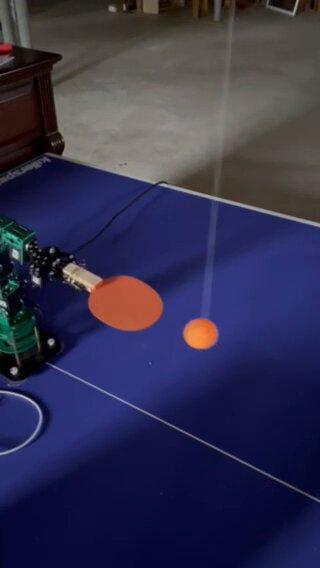oball: (182, 319, 215, 345)
